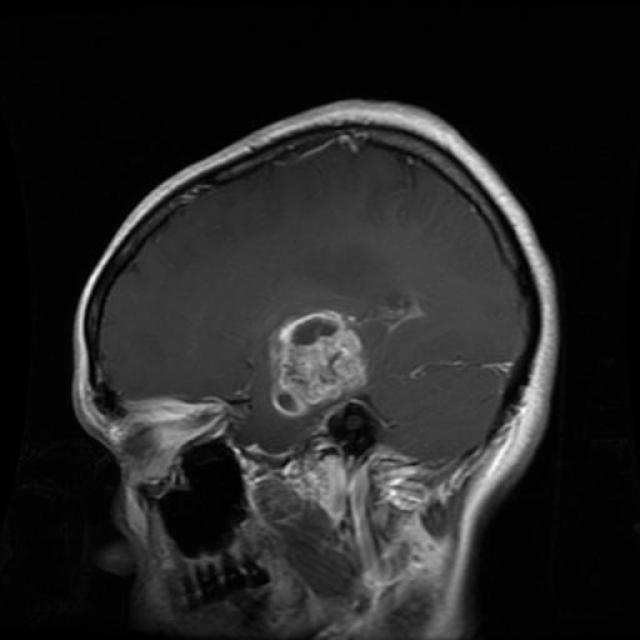brain_tumor: (270, 311, 368, 418)
